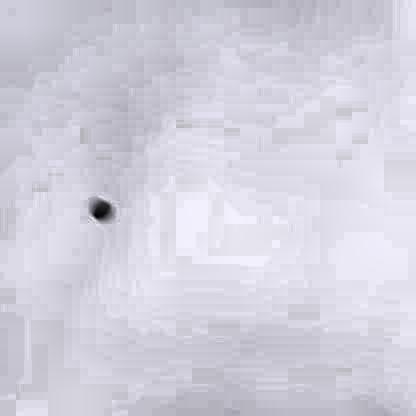golfball: (86, 198, 111, 220)
